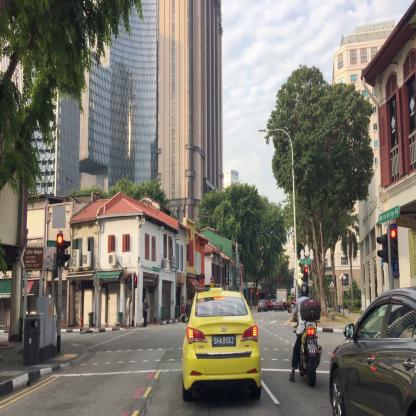red_traffic_light: (390, 228, 397, 260), (56, 233, 62, 264), (305, 267, 308, 282)
